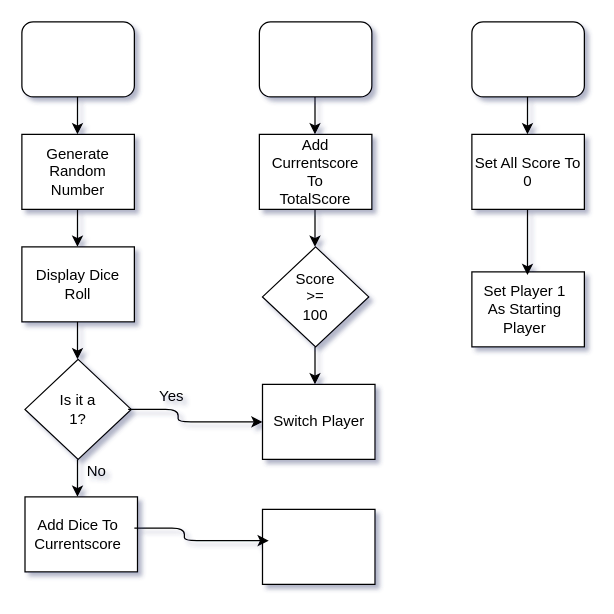
Image size: 614x614. Some labels were removed from this diagram. The centre of each missing label's shape, as x and y in pixels:
"Display New Score" goes at point (318, 546).
"User Holds Score" goes at point (315, 59).
"User Resets Game" goes at point (527, 59).
"User Rolls Dice" goes at point (77, 59).
